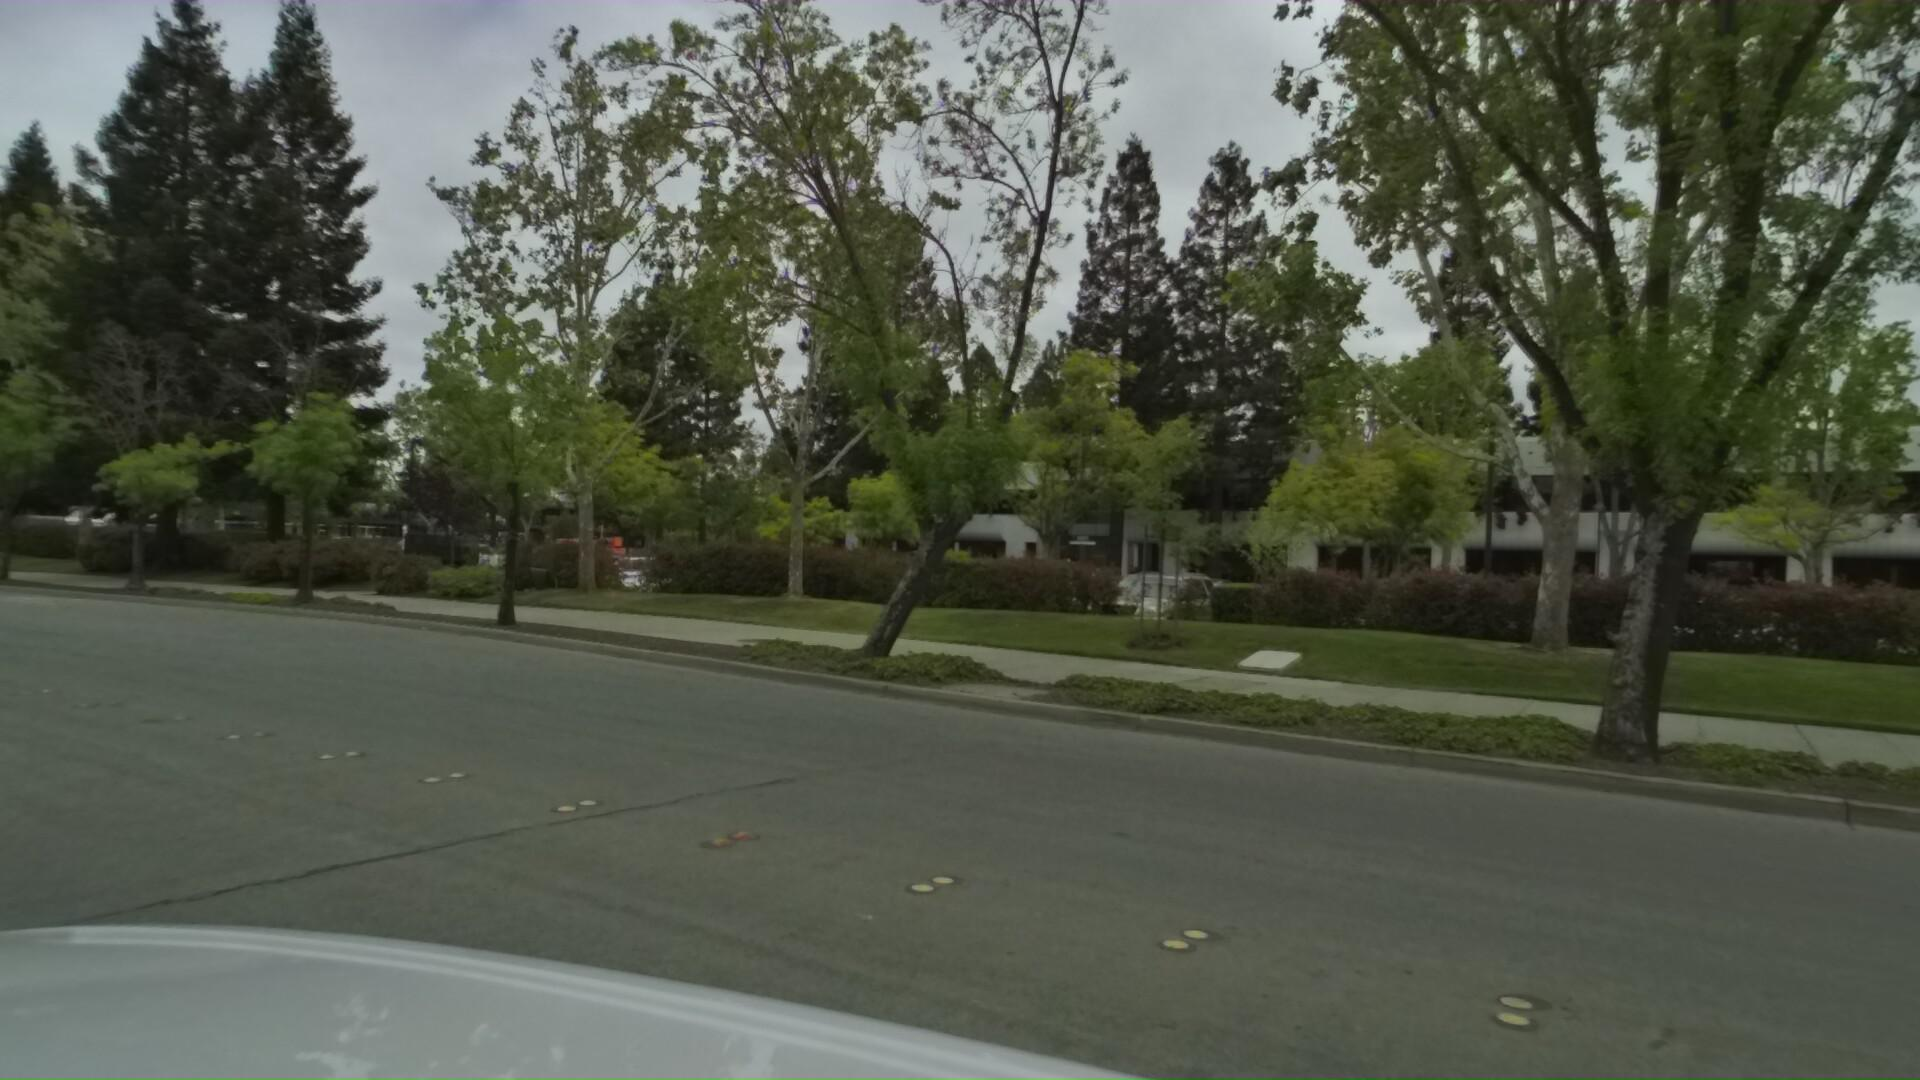car: (1791, 607, 1920, 705), (1060, 564, 1197, 641)
